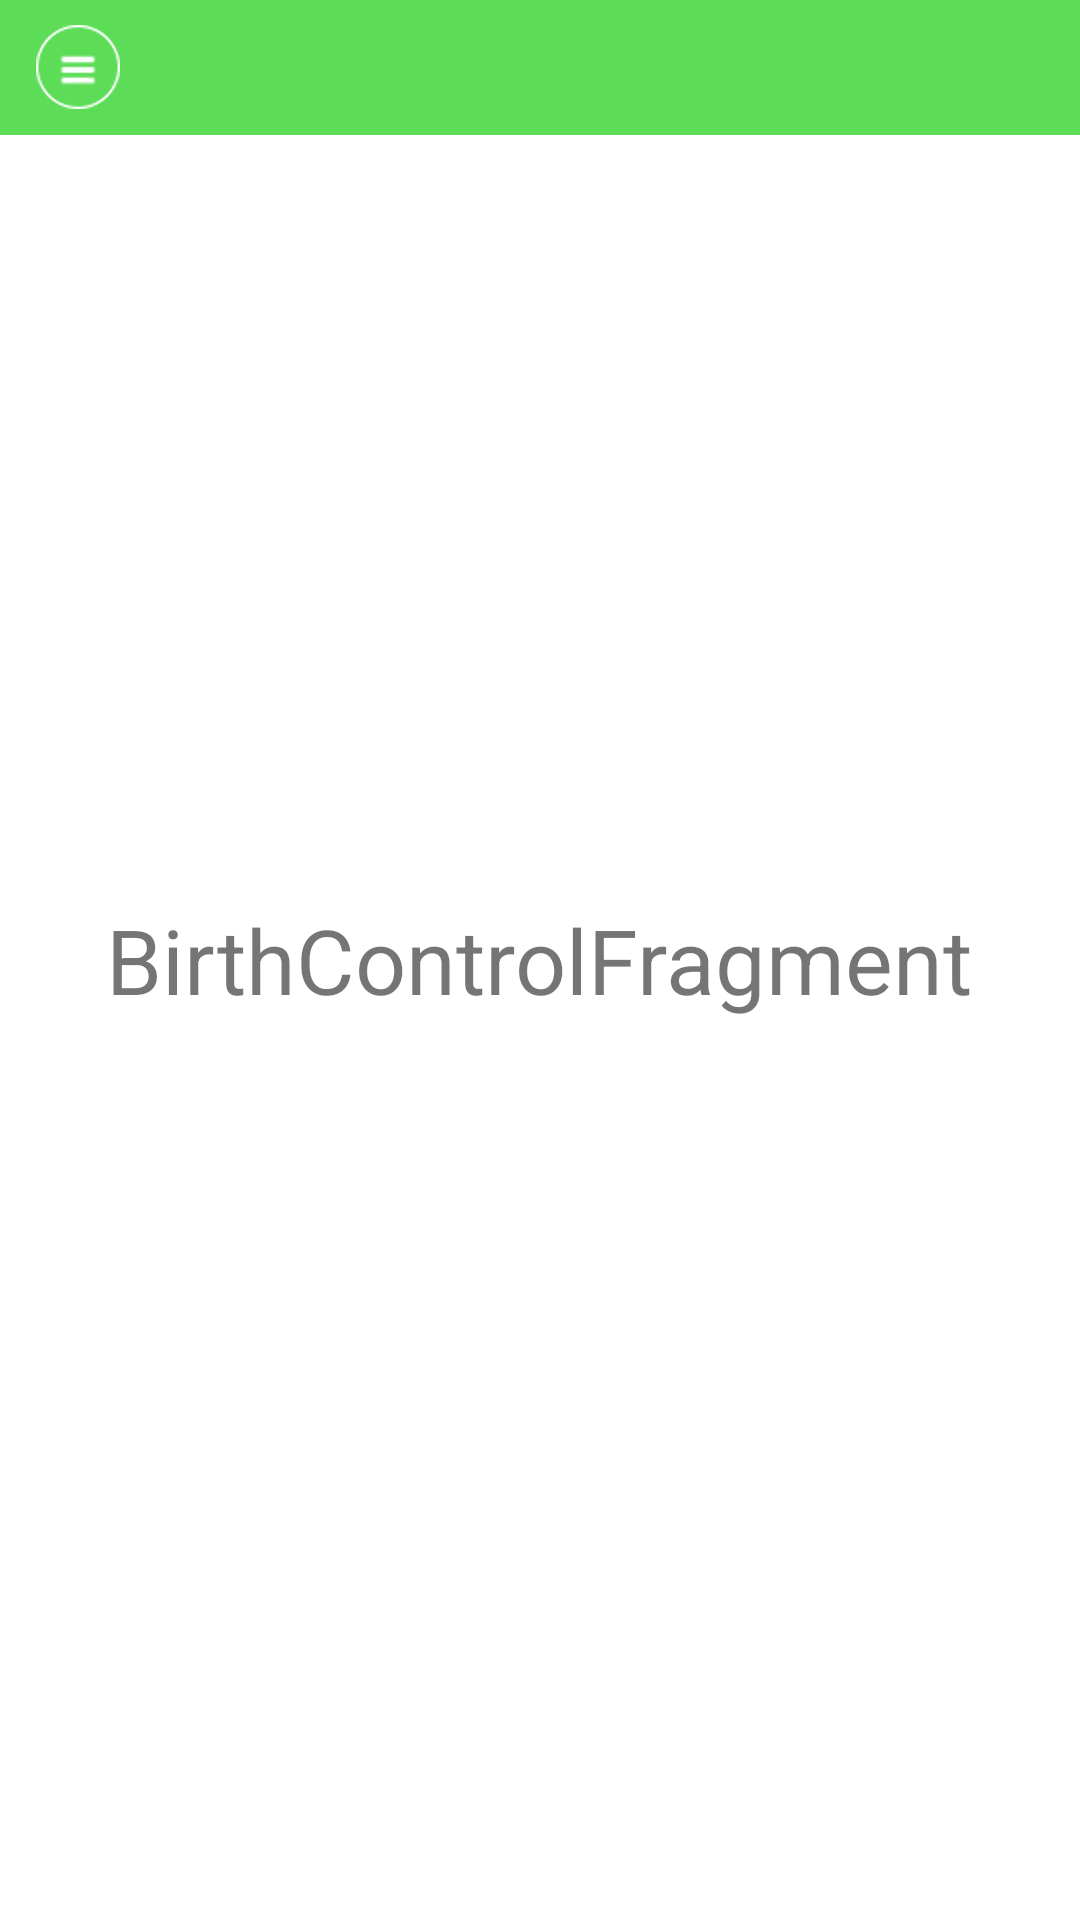

Named icons in this screenshot (1080px×1920px) and their bounding boxes, (x1, y1, x2, y2):
menu: (36, 25, 120, 109)
